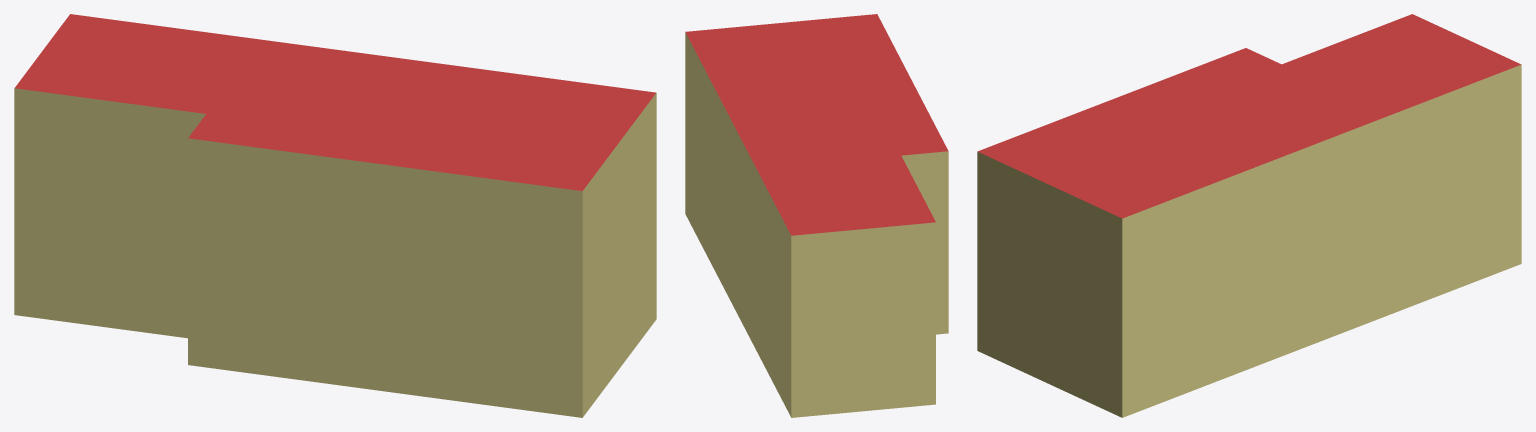
3 views of the same model, side by side, from view 1: azimuth 30°, elevation 25°; view 2: azimuth 150°, elevation 25°; view 3: azimuth 270°, elevation 25° (orthographic). The views are drawn at different scales.
Bounding box in the file's own units: 17.3 × 19.45 × 7.86.
